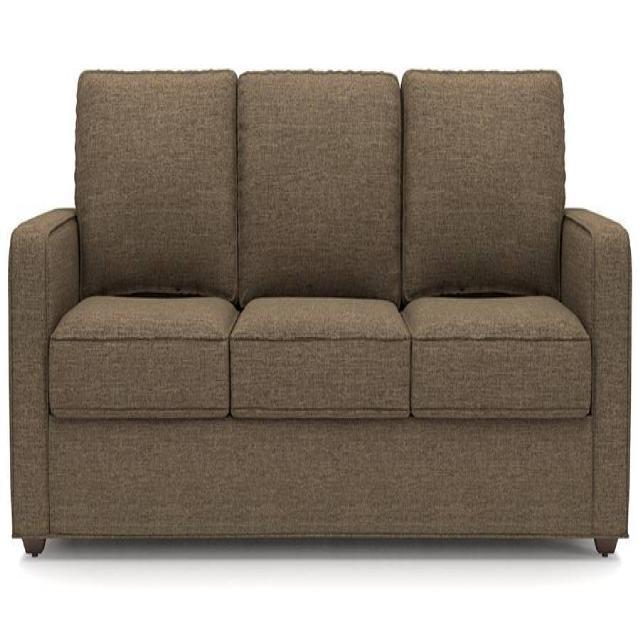sofa: (7, 65, 632, 559)
